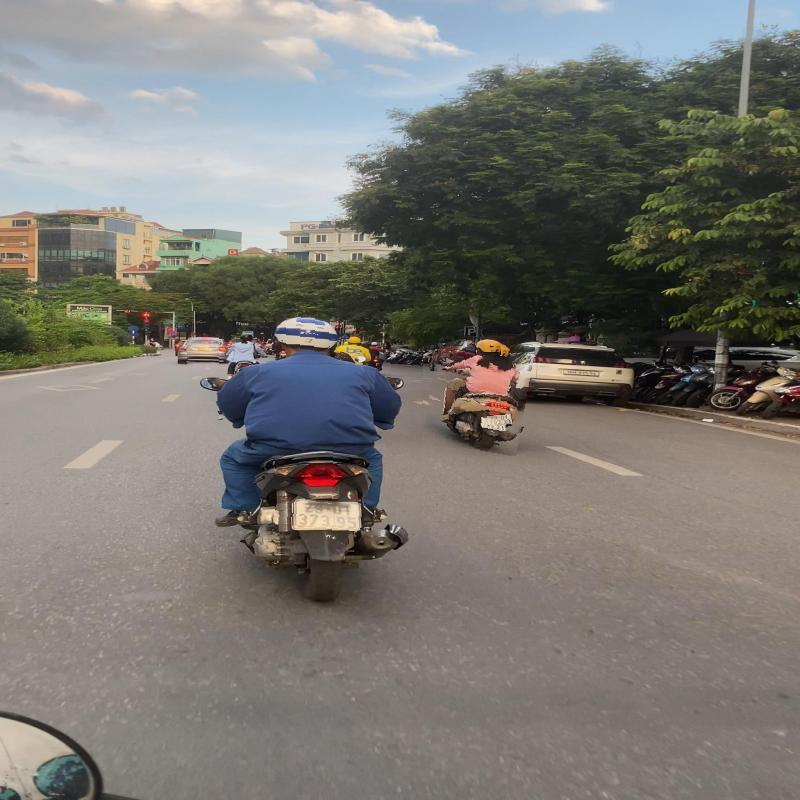helmet: (273, 314, 342, 352), (475, 339, 501, 355)
licenseplate: (292, 500, 362, 530), (487, 415, 512, 426)
motorcyclist: (185, 312, 422, 606), (426, 334, 532, 453)
